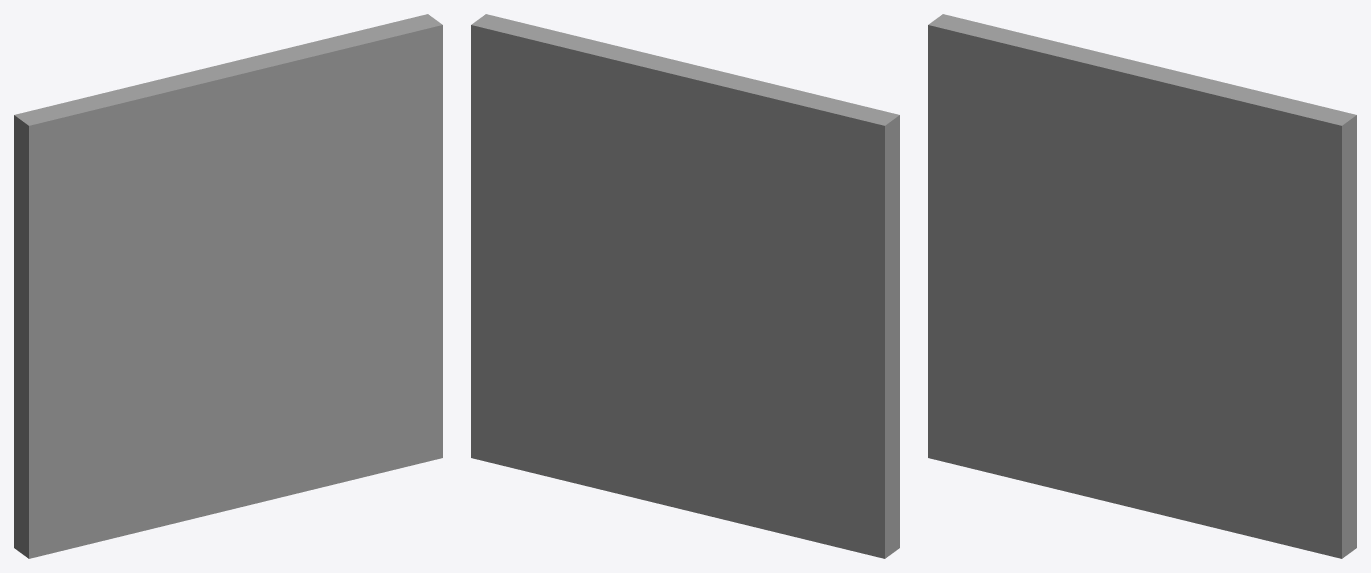
File: PlainWall.fbx
3 views of the same model, side by side, from view 1: azimuth 30°, elevation 25°; view 2: azimuth 150°, elevation 25°; view 3: azimuth 330°, elevation 25° (orthographic).
Parts seen in each view (by area): view 1: Pared; view 2: Pared; view 3: Pared.
Part boxes in pixels (left/top/right/bottom): Pared: left=14, top=14, right=442, bottom=558; Pared: left=471, top=14, right=899, bottom=558; Pared: left=928, top=14, right=1356, bottom=558.
Bounding box in the file's own units: 38.1 × 610 × 610.
1 material, 1 textured.
